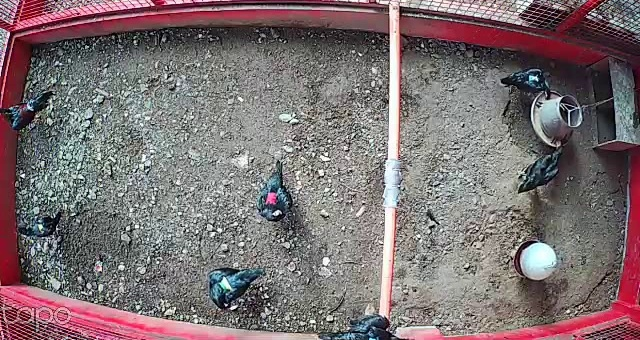Chicken: (202, 260, 268, 316), (510, 144, 565, 195), (257, 159, 294, 225), (496, 63, 553, 103), (14, 207, 66, 242)
Rooster: (0, 82, 60, 136)
Saddle_Color_Red: (266, 193, 276, 205)
Saddle_Color_Yellow: (35, 221, 45, 233)
Saddle_Color_YellowGreen: (216, 276, 233, 293)
